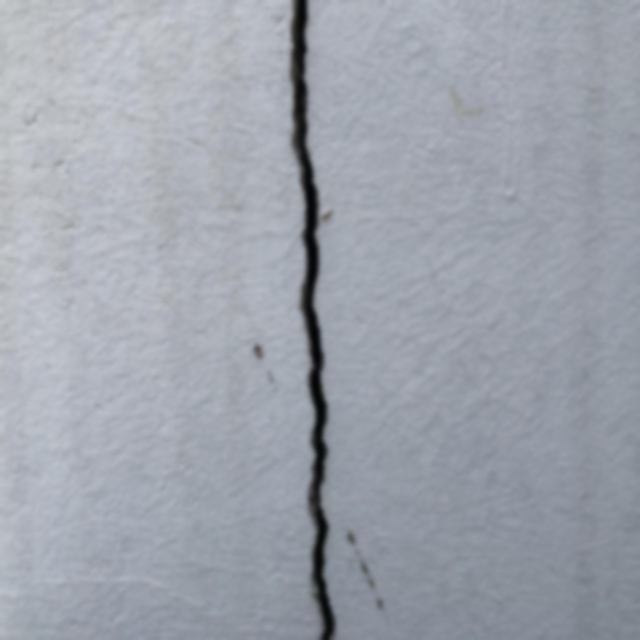SurfaceCrack: (228, 0, 395, 639)
